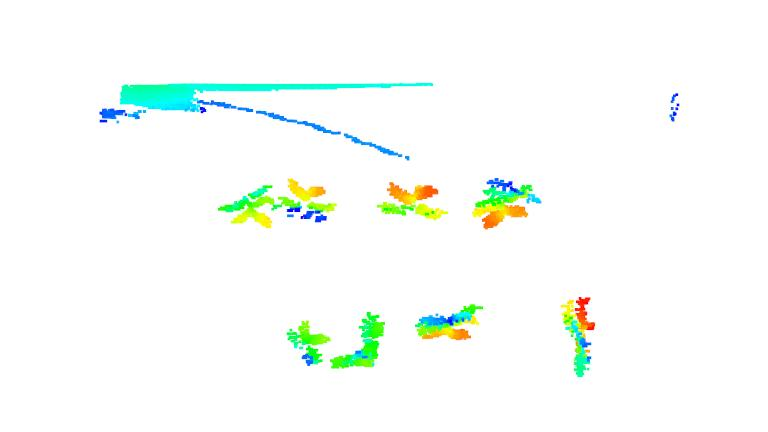chickpea: (472, 176, 545, 231), (559, 292, 603, 381), (330, 310, 387, 374), (214, 182, 283, 230), (377, 181, 451, 221), (275, 177, 337, 224), (416, 303, 483, 343), (285, 318, 330, 366)
